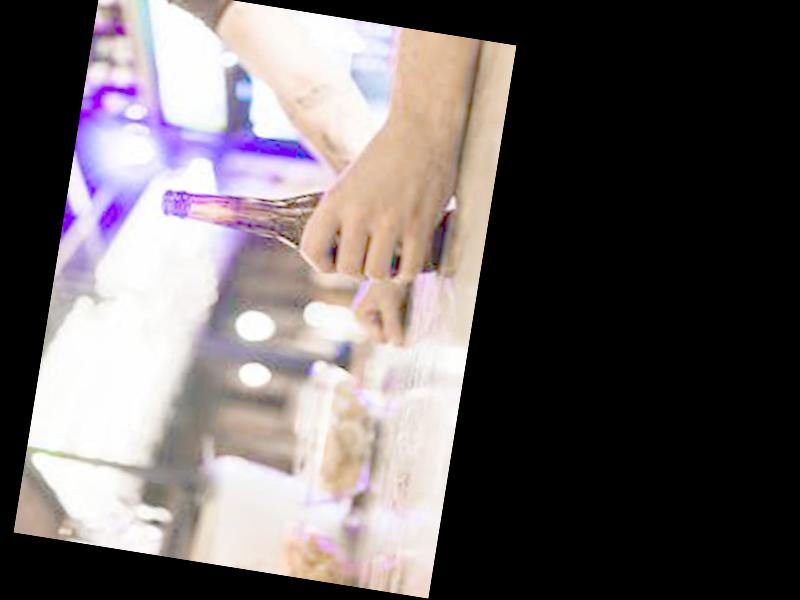Beer: (157, 167, 448, 274)
